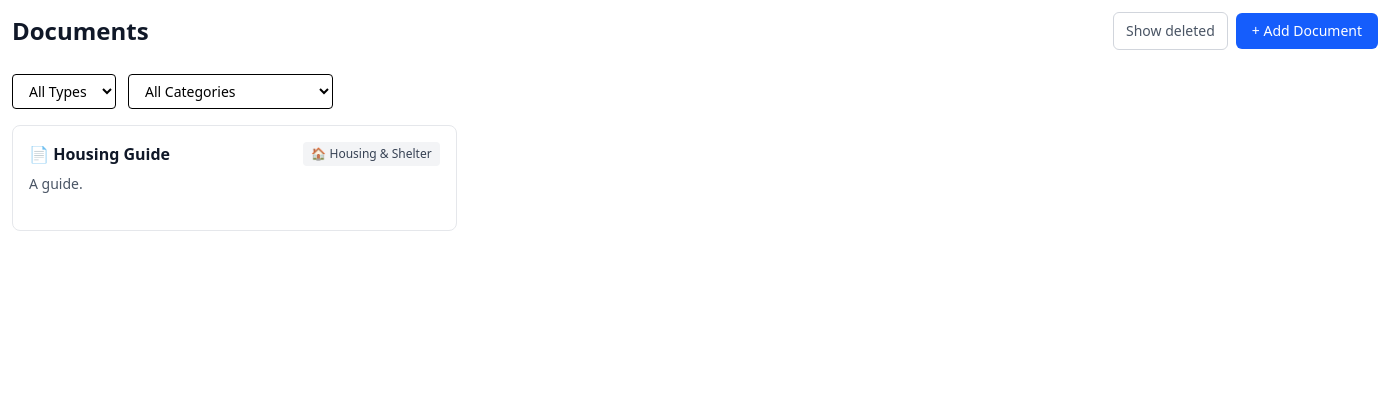
DocumentList Show deleted and Restore › clicking "Show deleted" fetches and displays deleted documents
This screenshot has width=1390, height=410.
What coordinates should you click on to do the following:
click the button "Show deleted"
I would click on:
 (1170, 31)
Its box is [1113, 12, 1228, 50].
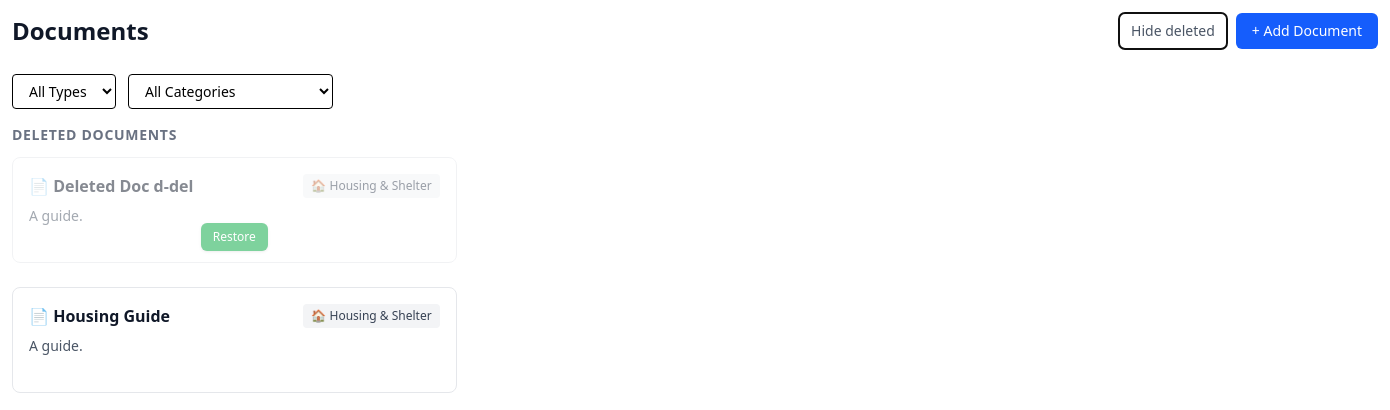
Expected: the heading "Deleted Documents" is shown, [12, 125, 177, 144]
